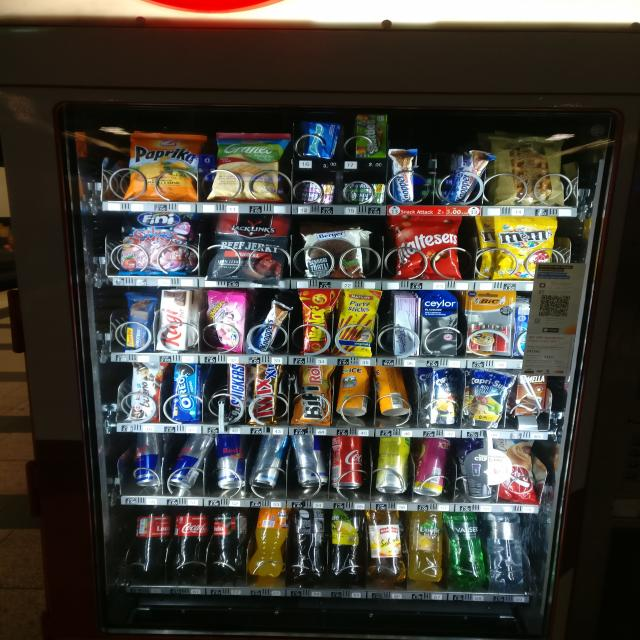7days_croissantschoko_packung_80_1_0000000000003: (496, 441, 537, 500)
airwaves_menthoneucalyptus_riegel_14_1_50173167: (304, 118, 338, 156)
bifi_roll__50__4251097402635: (296, 364, 331, 425)
bueno___43__4008400320328: (130, 361, 162, 422)
c-swiss_dosenabisicetea__33__9120025930135: (376, 364, 411, 416), (338, 365, 368, 416)
caprisun_multivitamin__20__4000177605004: (466, 365, 509, 426), (428, 365, 460, 425)
coke__dose_33__54491472: (330, 435, 365, 490)
coke__flasche_50__54491472: (131, 504, 173, 577), (167, 505, 208, 572), (209, 506, 249, 572)
comella_schokodrink__33__7613100037253: (514, 371, 547, 417)
fanta___50__40822938: (250, 505, 290, 577)
fini_galaxymix_packung_100_1_8410525150364: (124, 211, 196, 275)
fini_jellykisses_packung_80_1_8410525116704: (201, 287, 244, 348)
fuse_lemon__50__5449000235947: (327, 507, 367, 584)
fuse_lemon_dose_33__5449000235947: (371, 434, 412, 494)
fuse_peach__50__5449000236623: (290, 509, 330, 581)
jacklinks_beefjerkyorginal__25__4047751730219: (209, 212, 285, 280)
jlbrichard_gauffre__90__5410495002000: (492, 134, 566, 204)
kagi___50__7610046000259: (156, 286, 190, 351)
knoppers_riegel____4035800488808: (450, 148, 489, 205), (254, 299, 292, 354), (387, 148, 415, 206)
lorenz_nicnacs__40__4018077798818: (298, 287, 334, 353)
malburner_partysticks__40__7610200279682: (340, 284, 378, 356)
maltesers___100__5000159023061: (391, 215, 462, 276)
mnms_gelb__45__40111445: (492, 214, 558, 278)
oreo___66__84100733: (173, 363, 203, 424)
powerbar_proteinplusschoko__55__4029679520028: (123, 290, 155, 350)
ramseier_schorle__50__7610057012456: (368, 508, 407, 582)
redbull___33__90162909: (168, 434, 210, 488), (289, 434, 330, 486), (126, 431, 163, 487), (252, 432, 288, 486), (212, 434, 247, 487)
skittles_sour_riegel_51_1_0000000000004: (352, 112, 388, 158)
snickers___50__5000159461122: (226, 361, 248, 422)
stimorol_spearmint_riegel_14_1_0000000000005: (344, 182, 385, 204)
stimorol_wildcherry_riegel_14_1_57060330: (296, 182, 334, 201)
tiki_himbeer_brause__50__00000000009342: (412, 436, 452, 496)
twix___50__5000159459228: (248, 362, 282, 422)
valser_classic__50__76404160: (443, 511, 487, 584)
valser_still__50__7610335002575: (482, 509, 525, 586)
volvic_pinapple__50__305764335648: (406, 510, 444, 582)
zweifel_graneochilli__100__7610095184009: (210, 127, 285, 202)
zweifel_paprika__90__7610095013002: (124, 128, 198, 200)
